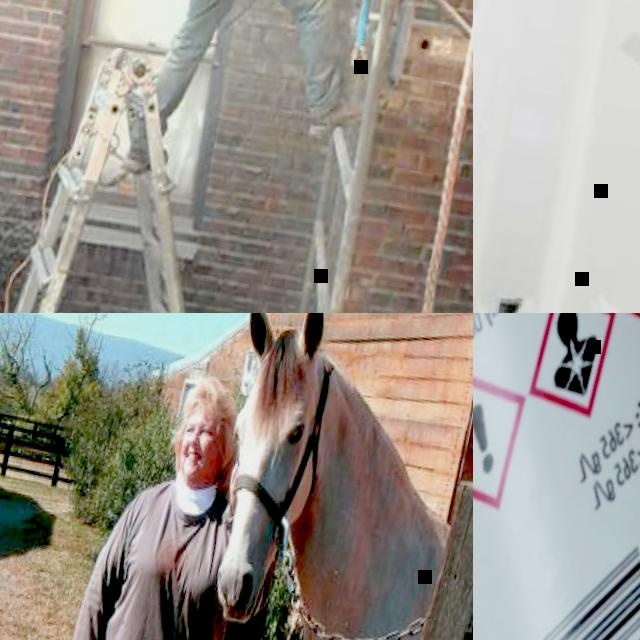NO-Hardhat: (181, 373, 236, 426)
NO-Mask: (177, 441, 219, 485)
NO-Safety Vest: (79, 482, 249, 640)
Person: (119, 0, 440, 211), (40, 356, 267, 640)
